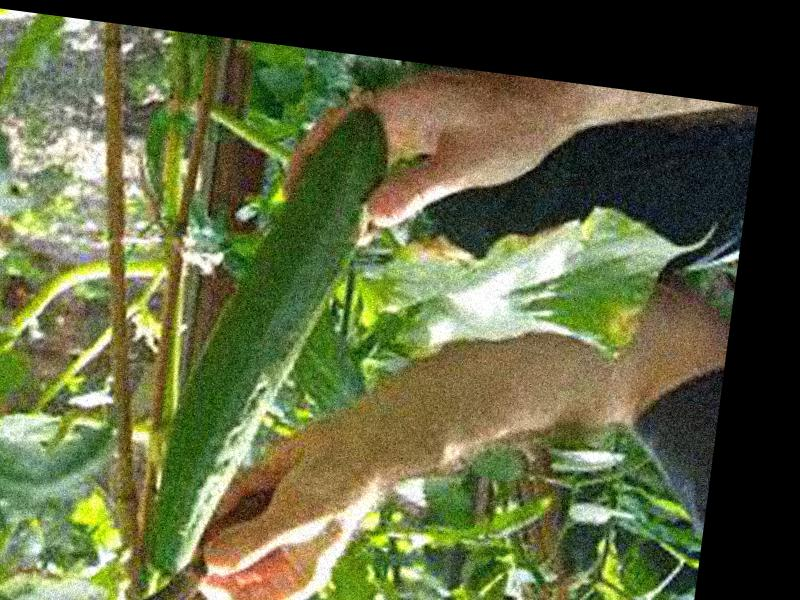Cucumber: (143, 87, 392, 593)
